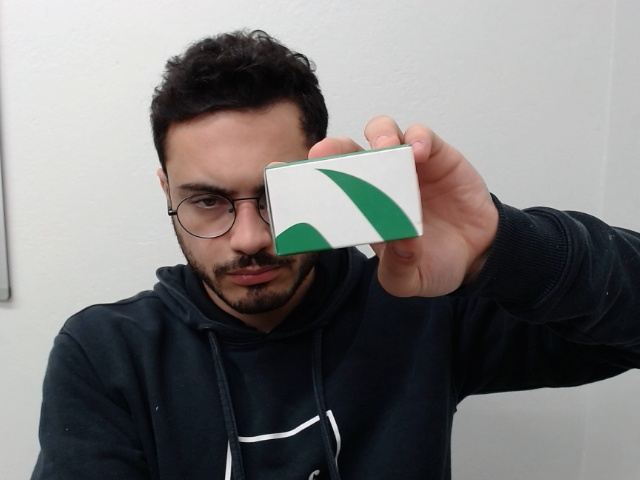divisor: (257, 141, 440, 263)
